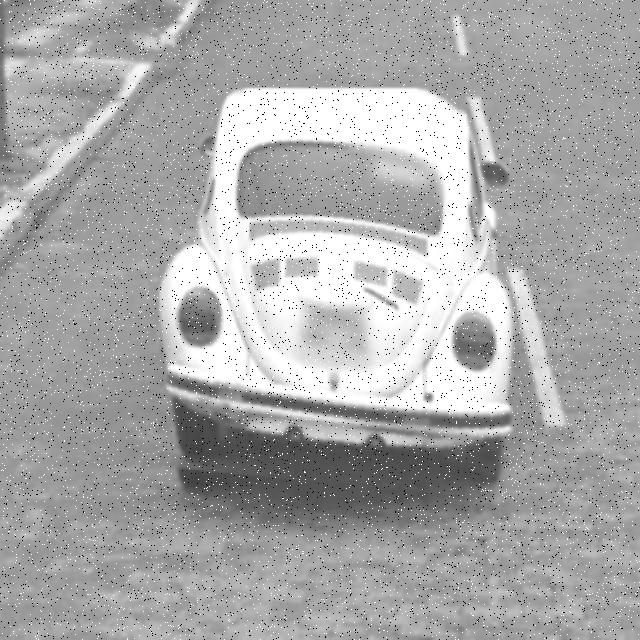car: (160, 89, 517, 502)
